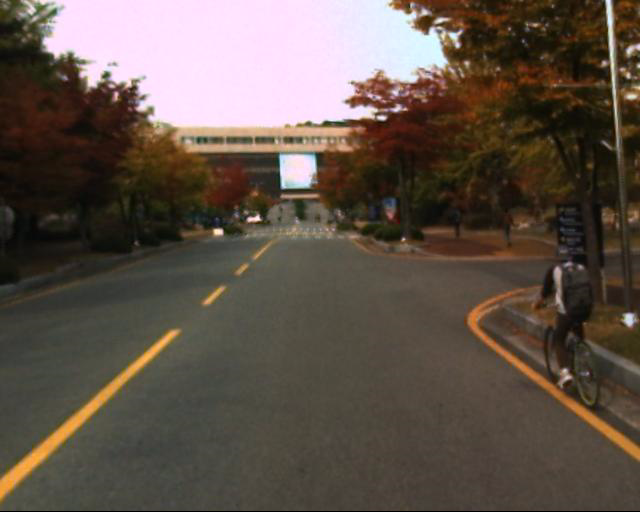person: (546, 246, 597, 396), (501, 207, 521, 251)
